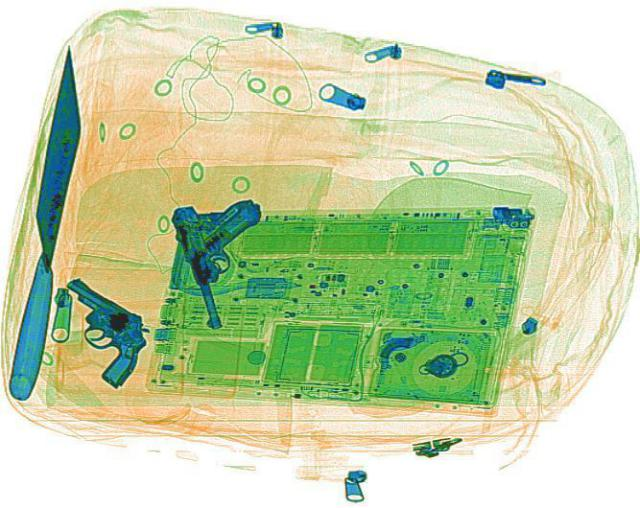Gun: (11, 274, 175, 387), (166, 191, 294, 327)
Knife: (7, 44, 91, 398)
